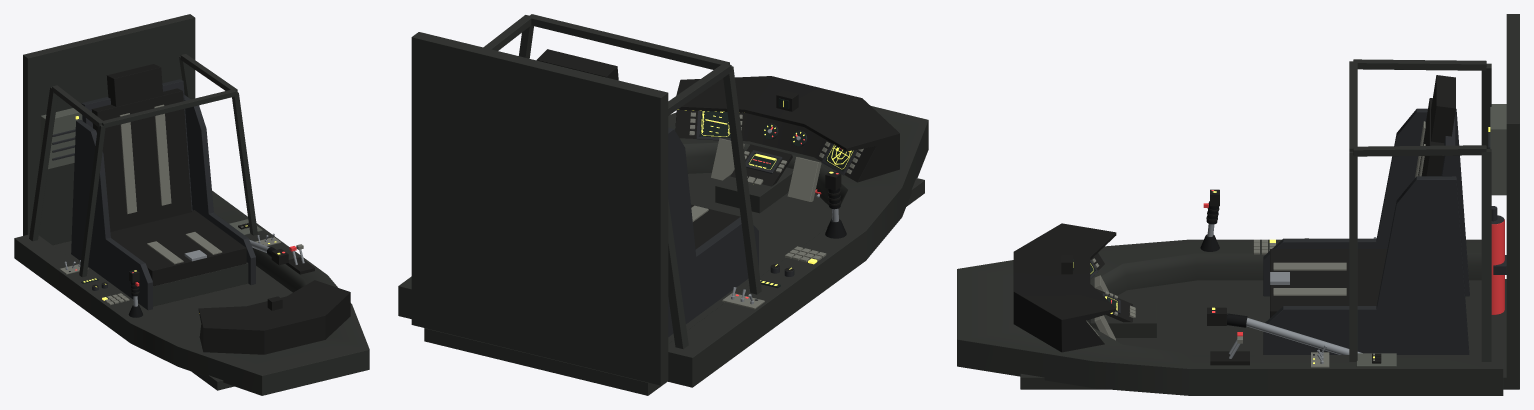
The model's file is Cockpit_Scout.fbx.
3 views of the same model, side by side, from view 1: azimuth 30°, elevation 25°; view 2: azimuth 150°, elevation 25°; view 3: azimuth 270°, elevation 25° (orthographic). The views are drawn at different scales.
Visible parts, largest first — view 1: Cockpit_Scout; view 2: Cockpit_Scout; view 3: Cockpit_Scout.
Part boxes in pixels (x1=…): Cockpit_Scout: x1=14, y1=14, x2=369, y2=395; Cockpit_Scout: x1=398, y1=14, x2=928, y2=395; Cockpit_Scout: x1=957, y1=14, x2=1519, y2=395.
Bounding box in the file's own units: 0.92 × 0.9 × 1.69.
